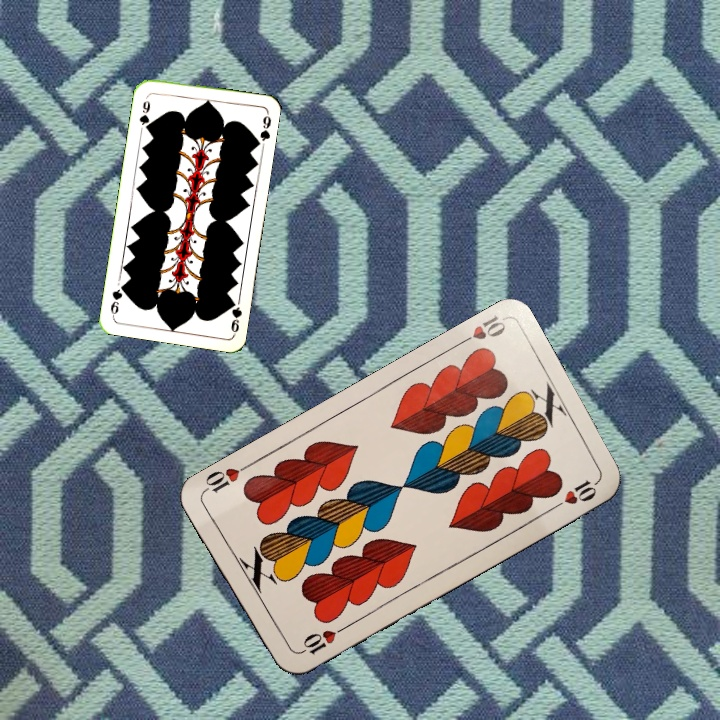G9: (226, 295, 245, 337), (135, 92, 153, 133)
H10: (452, 311, 509, 349), (294, 622, 348, 658)
